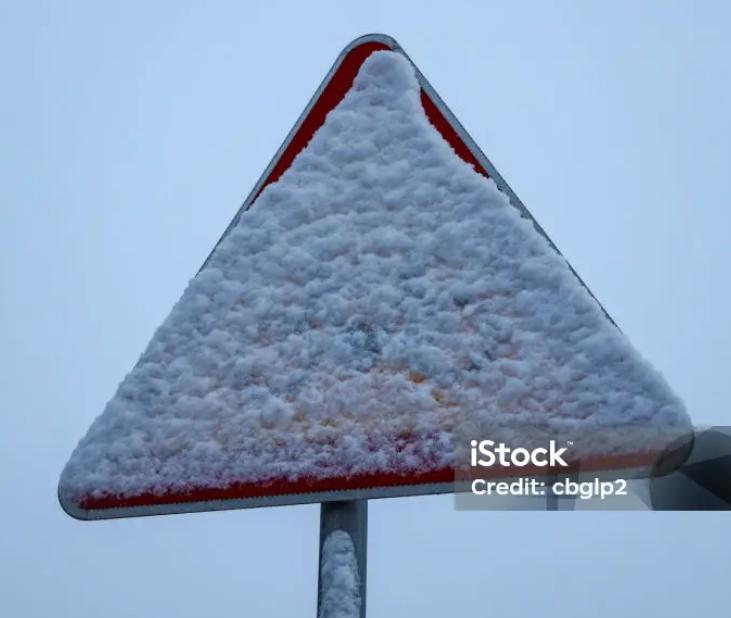obstructed_road_sign: (59, 35, 692, 519)
